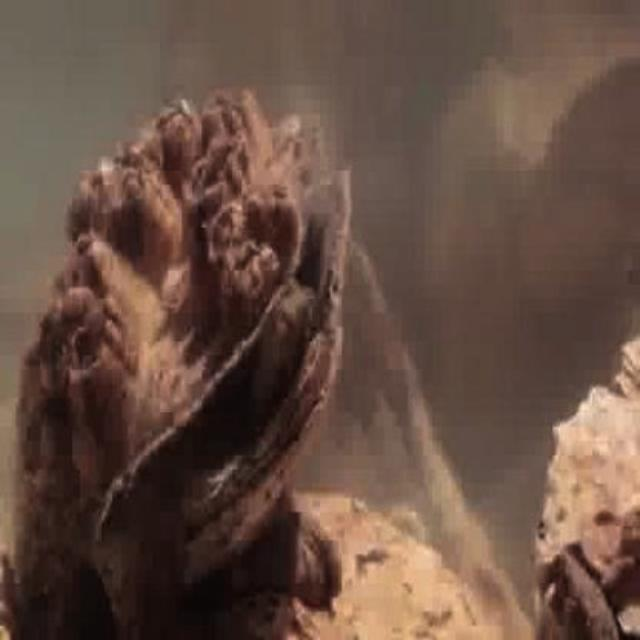Oyster-Closed: (218, 492, 490, 640), (540, 338, 640, 623), (199, 494, 342, 613)
Oyster-Open: (21, 91, 351, 592), (537, 555, 626, 640)
